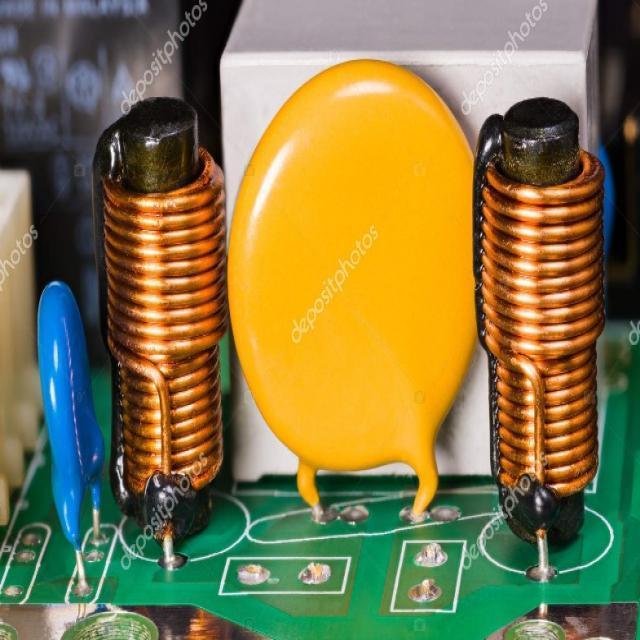Capacitor: (229, 60, 476, 514), (39, 281, 104, 597)
Inductor: (94, 98, 228, 569), (474, 98, 604, 581)
